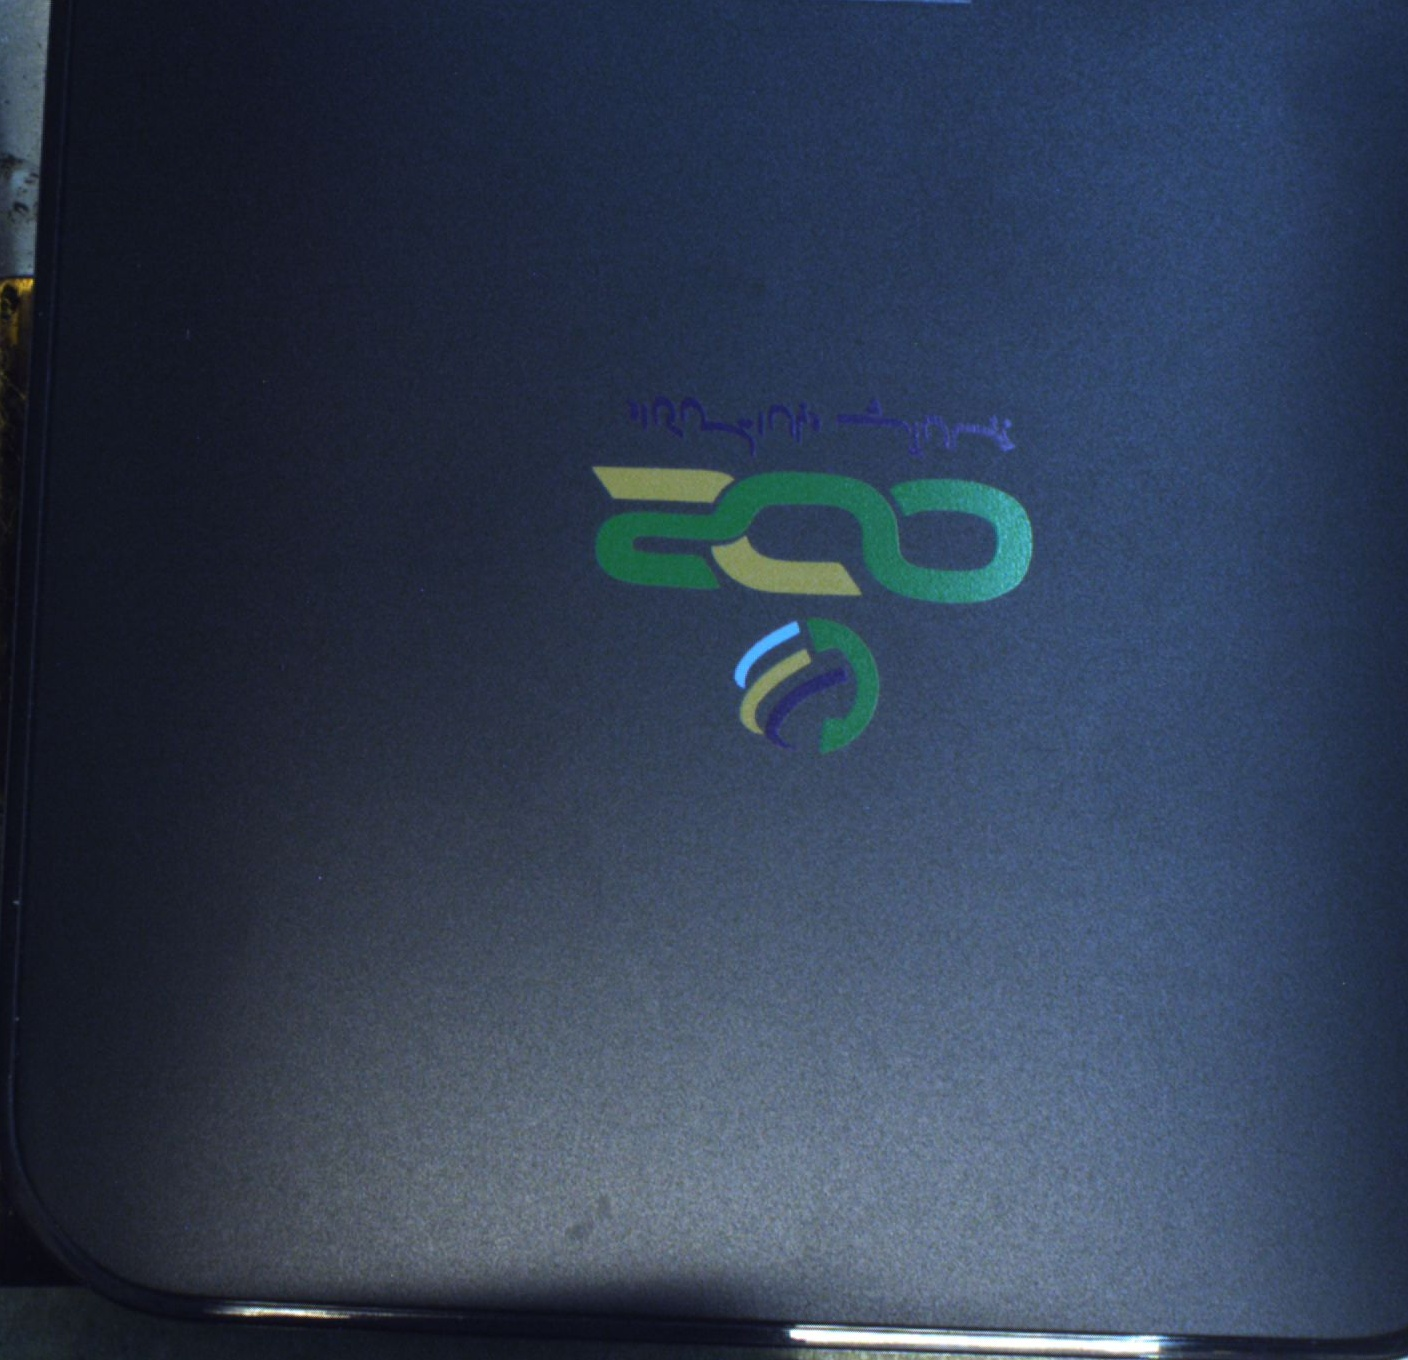BZ_HG680PSCOFirbeHome: (539, 371, 1092, 770)
